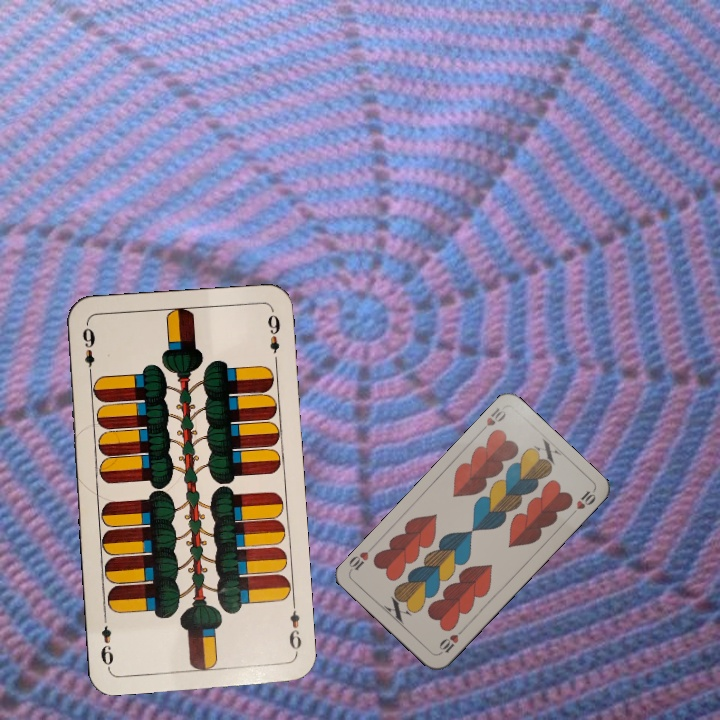E9: (78, 321, 98, 380), (285, 598, 304, 657)
H10: (435, 624, 467, 657), (475, 404, 508, 436)
